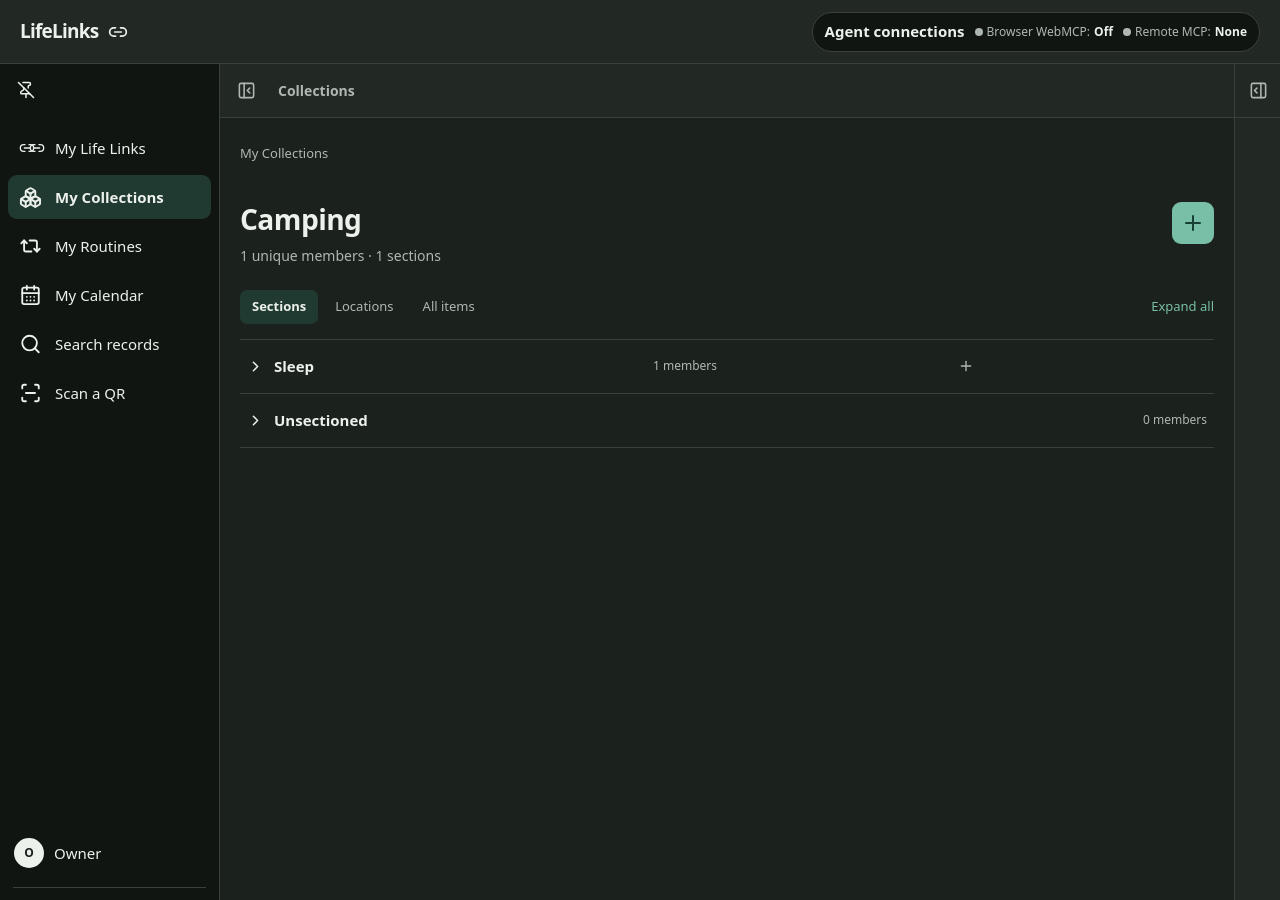
Collection owner workspace › initially shows unexpanded Section headings, with exact expand/collapse-all controls
The image size is (1280, 900).
Click the button "Expand all" at (1183, 307), box [1151,290,1214,324]
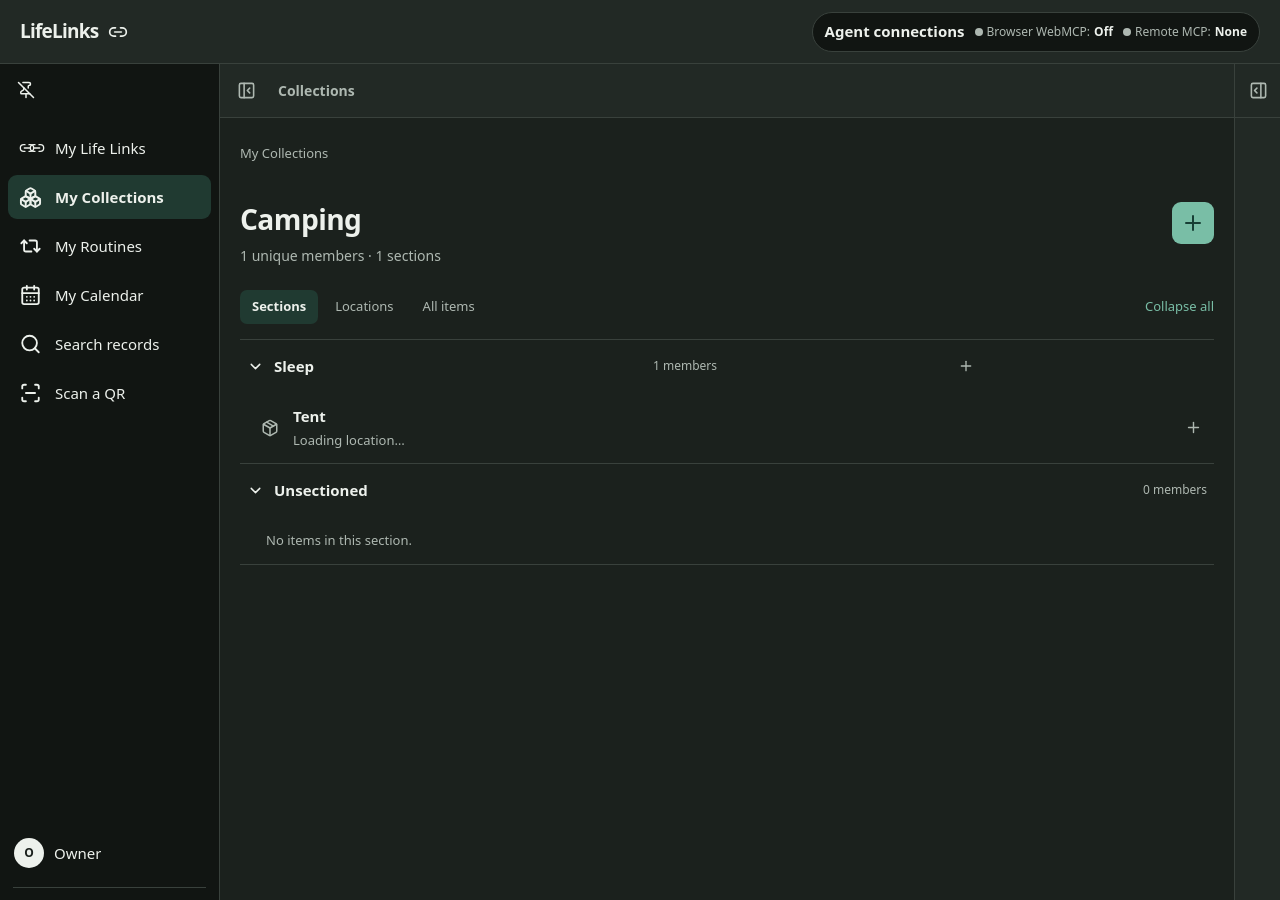
Expected: the number of elements with class "ll-group-members" is 2, [240,393,1214,463]; [266,531,412,549]
Click the button "Collapse all" at (1180, 307), box [1145,290,1214,324]
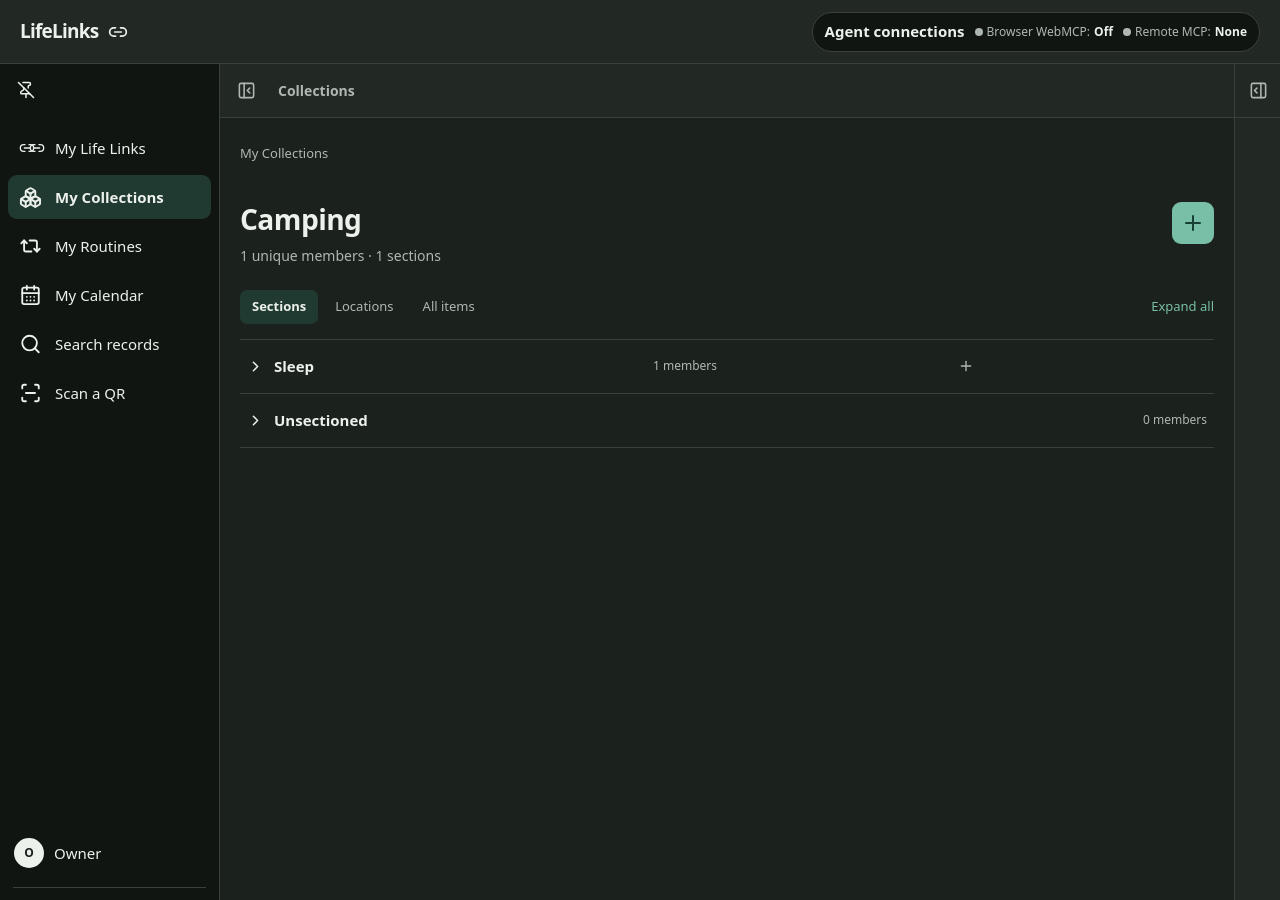
Expected: no elements with class "ll-group-members" are shown
